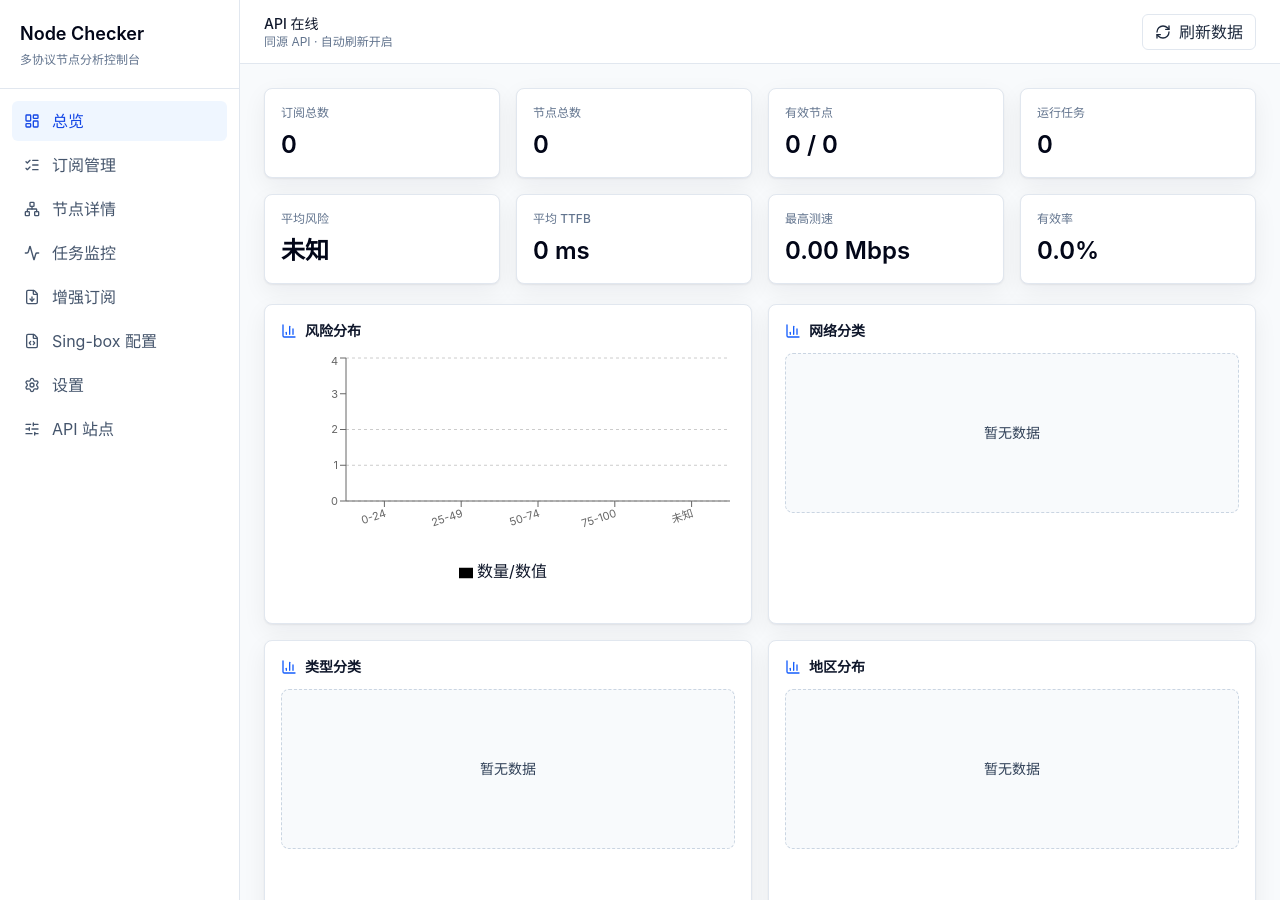
Test: App › applies settings metadata to numeric inputs
Click the button "设置" at (120, 385), box 12,365 -> 227,405
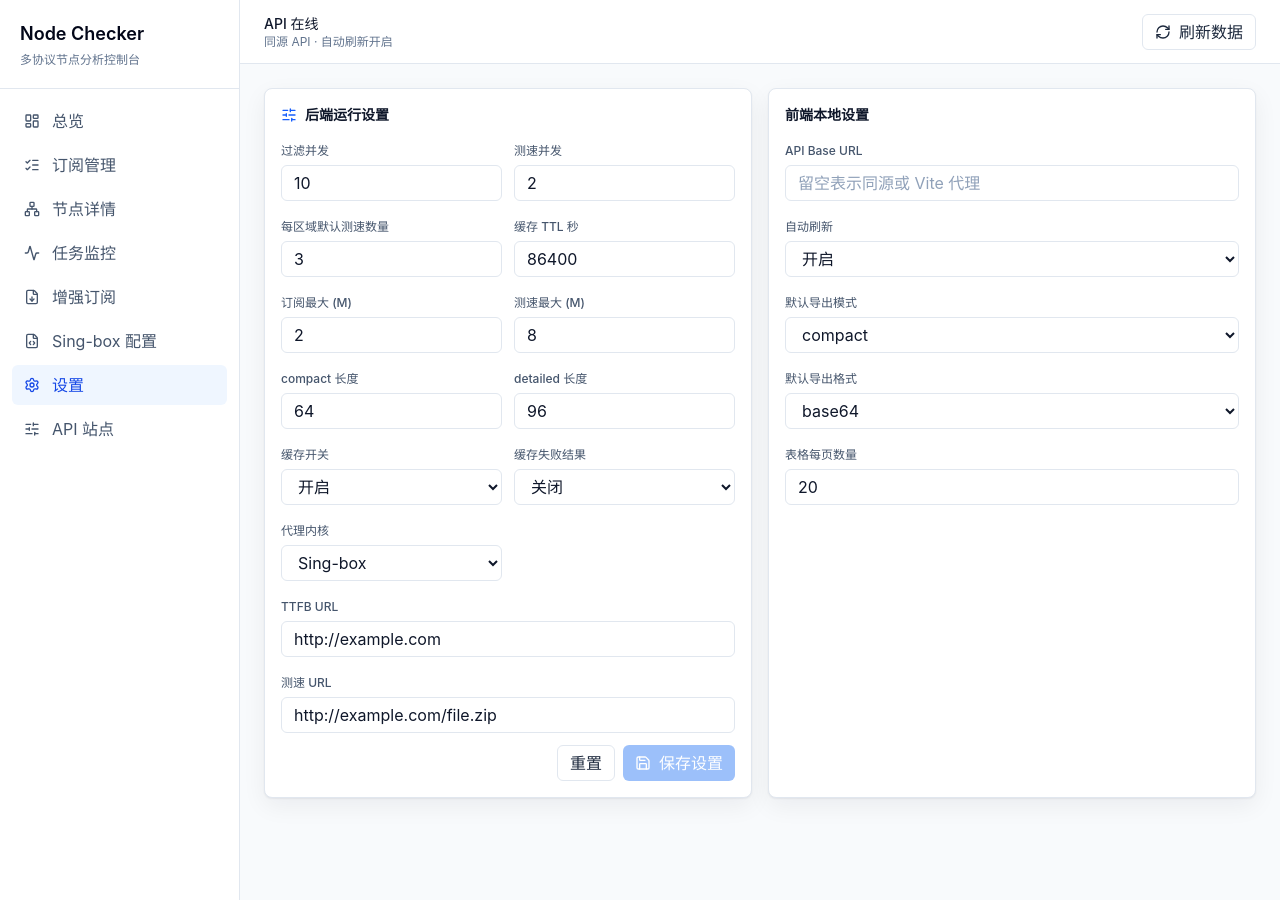
Expected: the number field labelled "每区域默认测速数量" is shown, 281,241 -> 502,277
